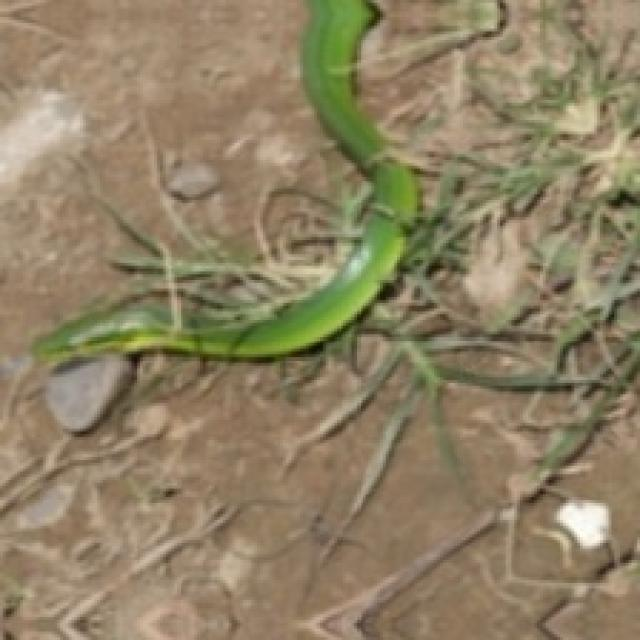red-tailed green ratsnake: (34, 0, 417, 360), (34, 0, 414, 357)
